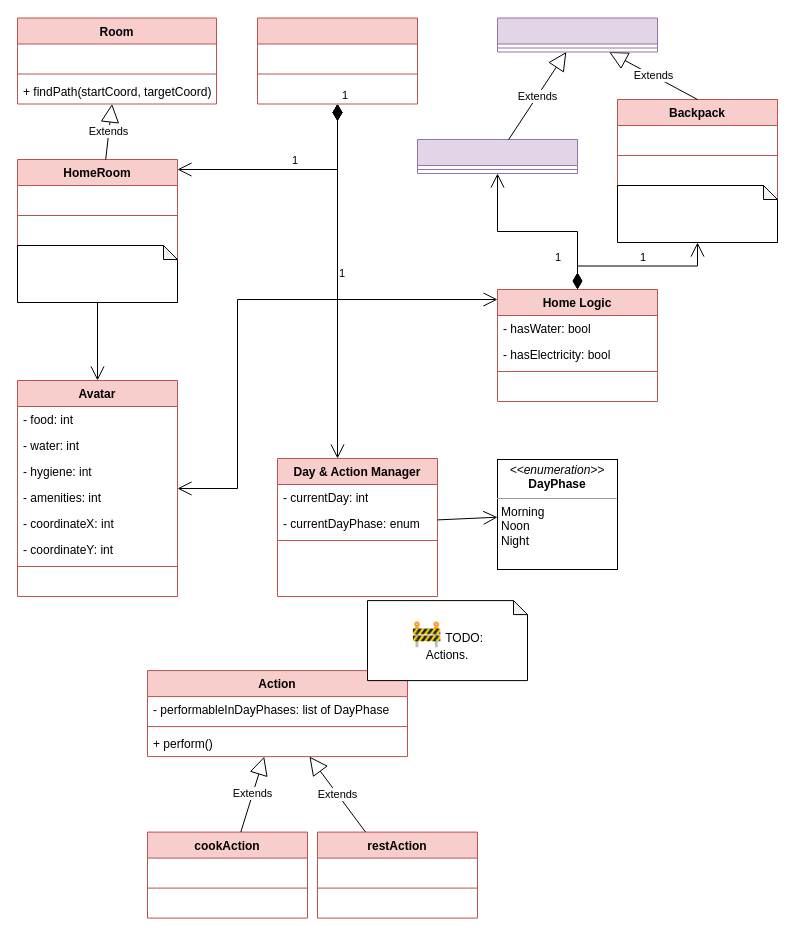
Some shapes in this 795 by 938 pixel diagram are drawn without their labels. Here are the shapes that lost their labels. From the top down, the centre of each, then its label:
the point at 577,34: Inventory
the point at 337,60: Crisis Phase: Phase
the point at 497,156: Shelf
the point at 697,213: Evtl. später an Avatar knüpfen?
the point at 97,273: TODO: Tilemap + Collision Layers + Furniture
